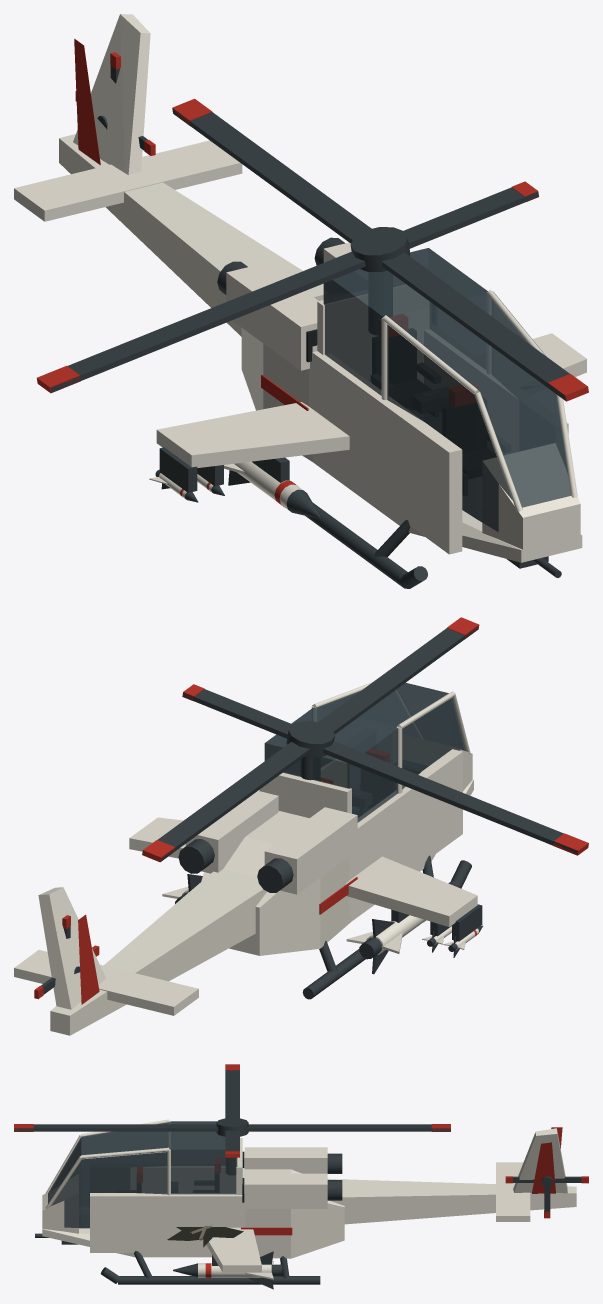
3 views of the same model, one above another, from view 1: azimuth 30°, elevation 25°; view 2: azimuth 150°, elevation 25°; view 3: azimuth 270°, elevation 25° (orthographic). The views are drawn at different scales.
Parts seen in each view (by area): view 1: helicopter-damaged-fleet-armor, helicopter-damaged-fleet-glass, blade-arm-2-painted, helicopter-damaged-fleet-machine, blade-arm-3-painted, blade-arm-1-painted, crew-chair-pilot-painted, crew-chair-gunner-painted, blade-arm-0-painted, helicopter-damaged-fleet-red, store-left-large-painted, rotor-main-fleet-machine; view 2: helicopter-damaged-fleet-armor, helicopter-damaged-fleet-glass, helicopter-damaged-fleet-machine, blade-arm-2-painted, blade-arm-1-painted, blade-arm-3-painted, store-left-large-painted, blade-arm-0-painted, helicopter-damaged-fleet-red, rotor-main-fleet-machine, crew-chair-gunner-painted; view 3: helicopter-damaged-fleet-armor, helicopter-damaged-fleet-glass, helicopter-damaged-fleet-machine, blade-arm-1-painted, blade-arm-3-painted, store-right-large-painted, helicopter-damaged-fleet-red, blade-arm-2-painted, helicopter-damaged-fleet-damage-charred, rotor-main-fleet-machine, blade-arm-0-painted, crew-chair-pilot-painted.
Boxes of the visible parts, x1=… form: helicopter-damaged-fleet-armor: x1=14, y1=14, x2=586, y2=562; helicopter-damaged-fleet-glass: x1=323, y1=248, x2=571, y2=532; blade-arm-2-painted: x1=37, y1=251, x2=365, y2=393; helicopter-damaged-fleet-machine: x1=159, y1=237, x2=427, y2=588; blade-arm-3-painted: x1=381, y1=252, x2=588, y2=401; blade-arm-1-painted: x1=172, y1=98, x2=371, y2=243; crew-chair-pilot-painted: x1=371, y1=314, x2=448, y2=433; crew-chair-gunner-painted: x1=443, y1=383, x2=510, y2=495; blade-arm-0-painted: x1=403, y1=181, x2=538, y2=248; helicopter-damaged-fleet-red: x1=74, y1=38, x2=308, y2=410; store-left-large-painted: x1=224, y1=461, x2=321, y2=518; rotor-main-fleet-machine: x1=350, y1=227, x2=410, y2=271; helicopter-damaged-fleet-armor: x1=14, y1=682, x2=477, y2=1035; helicopter-damaged-fleet-glass: x1=264, y1=682, x2=465, y2=822; helicopter-damaged-fleet-machine: x1=178, y1=756, x2=482, y2=999; blade-arm-2-painted: x1=322, y1=741, x2=588, y2=855; blade-arm-1-painted: x1=142, y1=741, x2=309, y2=862; blade-arm-3-painted: x1=318, y1=617, x2=479, y2=734; store-left-large-painted: x1=346, y1=915, x2=425, y2=974; blade-arm-0-painted: x1=182, y1=684, x2=291, y2=738; helicopter-damaged-fleet-red: x1=78, y1=877, x2=357, y2=1004; rotor-main-fleet-machine: x1=286, y1=721, x2=334, y2=757; crew-chair-gunner-painted: x1=360, y1=749, x2=427, y2=815; helicopter-damaged-fleet-armor: x1=42, y1=1119, x2=576, y2=1272; helicopter-damaged-fleet-glass: x1=48, y1=1121, x2=237, y2=1228; helicopter-damaged-fleet-machine: x1=100, y1=1153, x2=342, y2=1284; blade-arm-1-painted: x1=246, y1=1124, x2=450, y2=1131; blade-arm-3-painted: x1=14, y1=1124, x2=218, y2=1131; store-right-large-painted: x1=173, y1=1251, x2=282, y2=1289; helicopter-damaged-fleet-red: x1=241, y1=1127, x2=562, y2=1235; blade-arm-2-painted: x1=225, y1=1064, x2=239, y2=1118; helicopter-damaged-fleet-damage-charred: x1=167, y1=1227, x2=243, y2=1247; rotor-main-fleet-machine: x1=216, y1=1118, x2=248, y2=1136; blade-arm-0-painted: x1=225, y1=1130, x2=239, y2=1157; crew-chair-pilot-painted: x1=171, y1=1158, x2=220, y2=1192.
Bounding box in the file's own units: 39.59 × 19.2 × 66.32.
